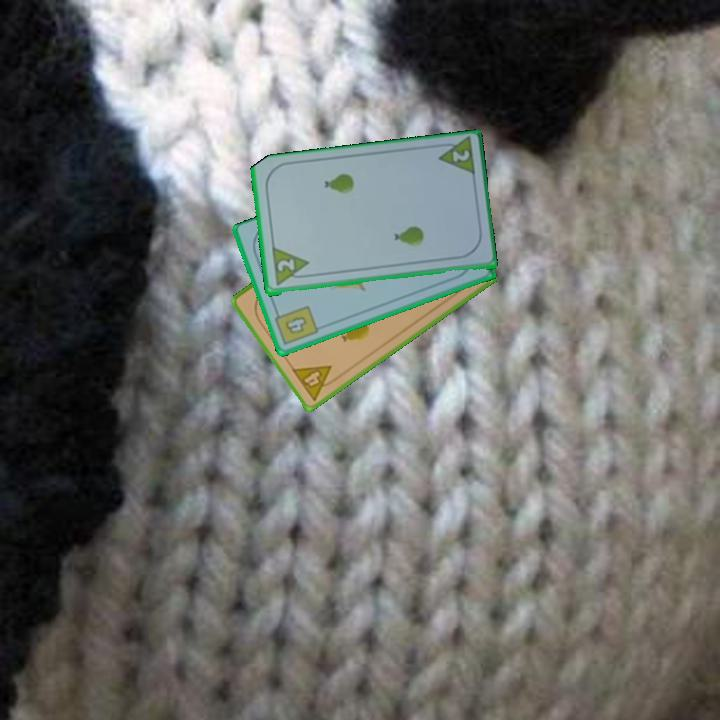2p: (268, 245, 312, 289), (448, 147, 472, 165)
4b: (271, 302, 321, 348)
4p: (288, 362, 342, 404)
